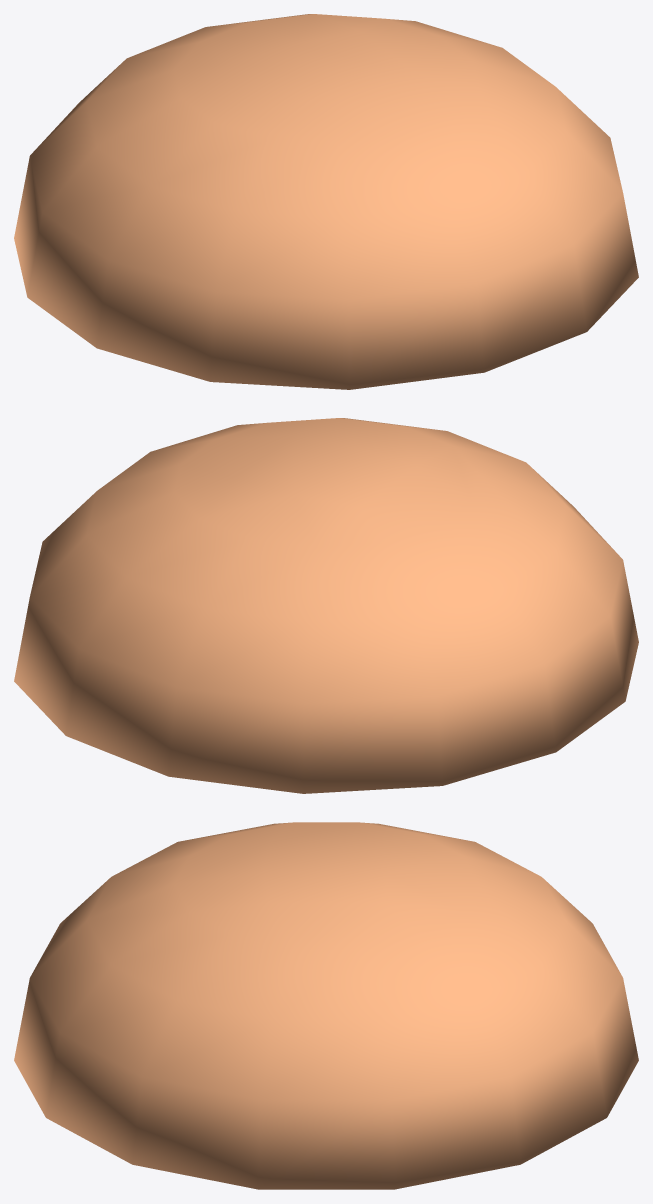
Rendered from BurgerBun_geo.fbx.
3 views of the same model, one above another, from view 1: azimuth 30°, elevation 25°; view 2: azimuth 150°, elevation 25°; view 3: azimuth 270°, elevation 25° (orthographic).
Parts seen in each view (by area): view 1: BurgerBun_geo; view 2: BurgerBun_geo; view 3: BurgerBun_geo.
Boxes of the visible parts, x1=… form: BurgerBun_geo: x1=14, y1=14, x2=638, y2=389; BurgerBun_geo: x1=14, y1=418, x2=638, y2=793; BurgerBun_geo: x1=14, y1=822, x2=638, y2=1189.
Bounding box in the file's own units: 0.4472 × 0.4626 × 0.1541.
